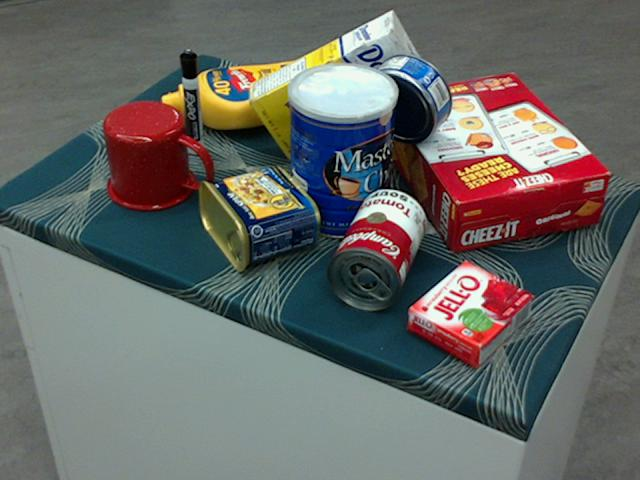cracker_box: (378, 71, 607, 252)
gelatin_box: (407, 260, 532, 365)
large_marker: (178, 49, 205, 154)
master_chef_can: (287, 63, 397, 240)
mug: (103, 100, 211, 211)
mustard_bottle: (160, 57, 332, 128)
potted_meat_can: (195, 165, 319, 271)
sugar_box: (245, 10, 433, 163)
tomato_soup_can: (324, 187, 427, 309)
tuna_fish_can: (363, 51, 452, 141)
